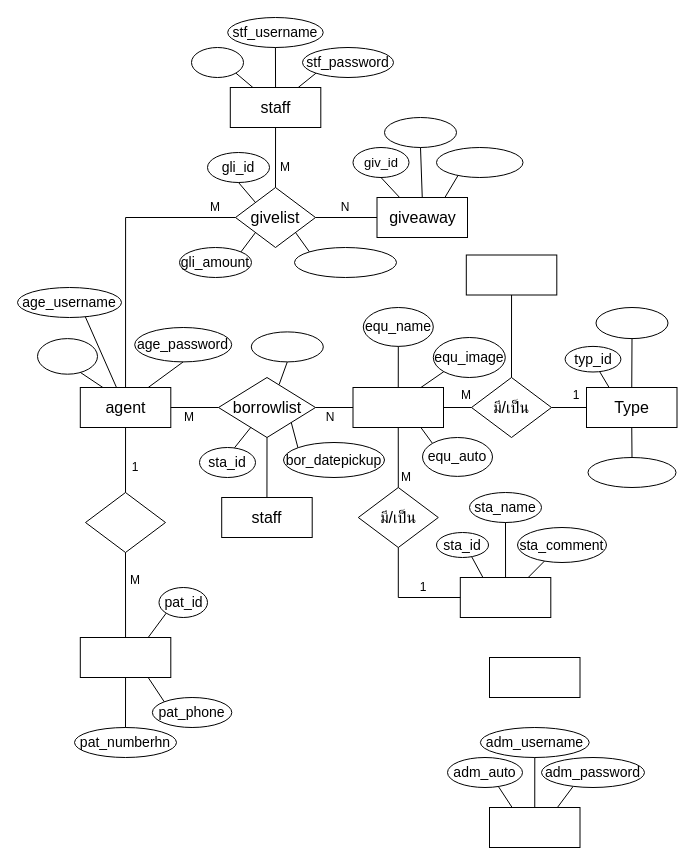
Image size: 695x865. Some labels were removed from this diagram. The box of each missing label's shape, as (x1, y1, x2, y2) in pixels:
Admin: (488, 806, 580, 848)
age_id: (36, 338, 98, 374)
bor_auto: (250, 331, 323, 362)
equipment: (352, 386, 444, 428)
giv_amount: (436, 146, 523, 178)
giv_name: (384, 116, 456, 148)
gli_datepickup: (294, 246, 396, 278)
history: (488, 656, 580, 698)
Location: (465, 254, 557, 295)
patient: (79, 636, 171, 678)
Status: (459, 576, 551, 618)
stf_id: (190, 46, 244, 78)
typ_comment: (587, 456, 676, 488)
typ_name: (595, 306, 668, 339)
ดูแล: (84, 492, 166, 552)
